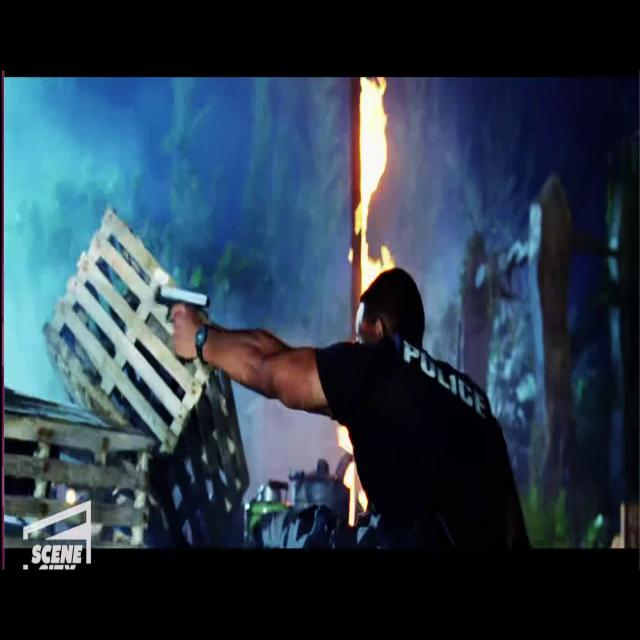weapons: (150, 265, 216, 379)
